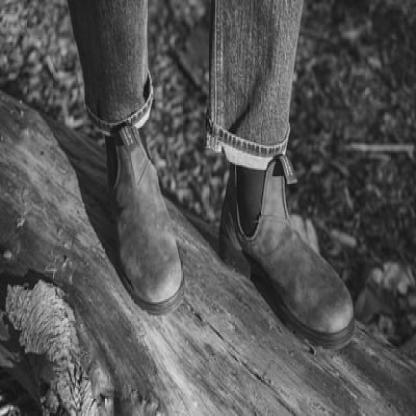ankle: (246, 181, 252, 191), (113, 169, 118, 174)
heel: (223, 231, 229, 238), (111, 204, 116, 209)
left_foot: (221, 164, 357, 352)
pinky: (132, 274, 137, 282), (339, 282, 344, 290)
right_foot: (99, 127, 186, 315)
toe: (173, 273, 180, 284), (322, 318, 328, 324)
